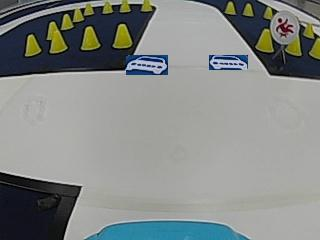cone: (112, 23, 132, 49), (254, 28, 274, 53), (81, 26, 100, 50), (49, 30, 66, 53), (24, 34, 40, 56), (286, 37, 301, 56), (60, 12, 73, 30), (46, 20, 58, 39), (309, 38, 319, 59), (303, 22, 314, 39), (101, 0, 113, 15), (72, 7, 84, 22), (224, 1, 236, 15), (242, 2, 253, 17), (83, 2, 94, 16), (120, 0, 131, 13), (141, 0, 152, 12), (263, 6, 272, 20)
tumble: (272, 13, 298, 41)
